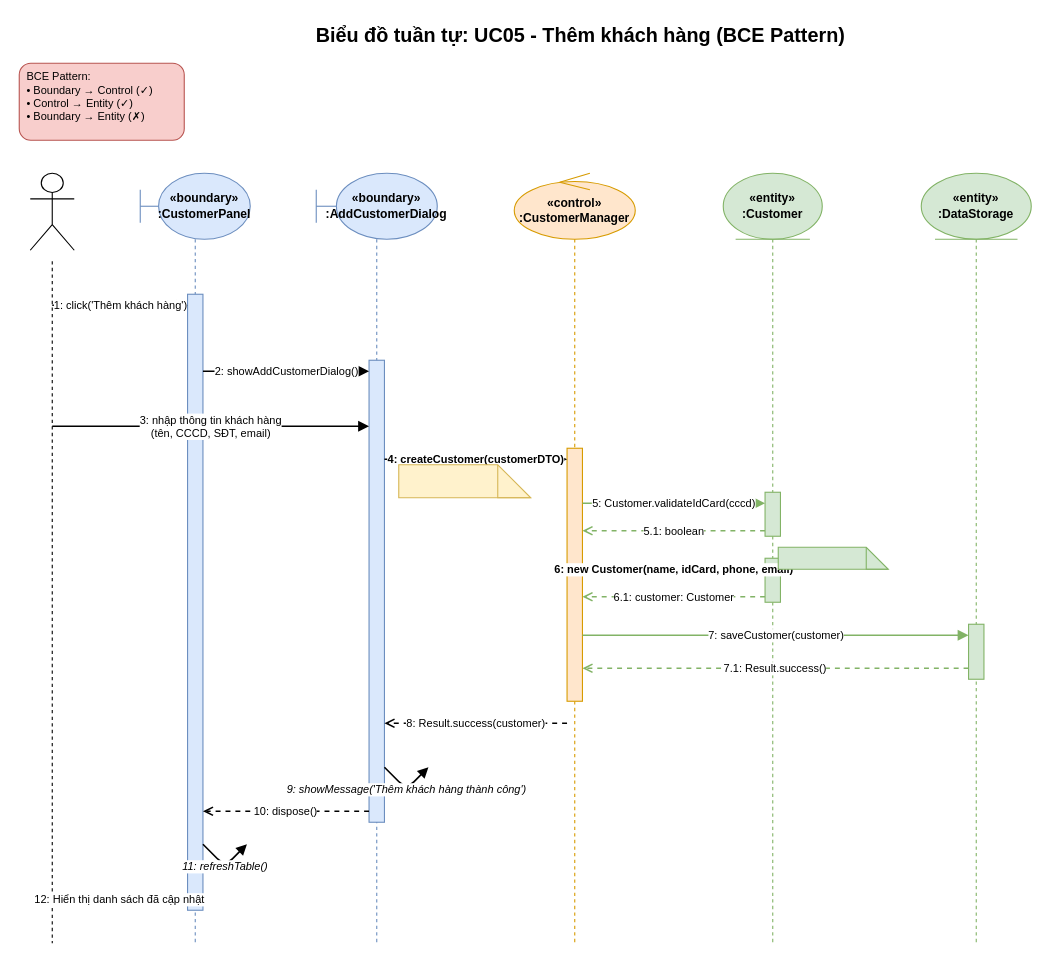
This 1051x964 diagram has some shape labels left out. Here are the shapes that lost their labels. From the top down, the centre of each, then its label:
point 51,211: Lễ tân
point 464,481: ✓ Boundary → Control Delegate to Manager
point 832,557: ✓ Creator Pattern
